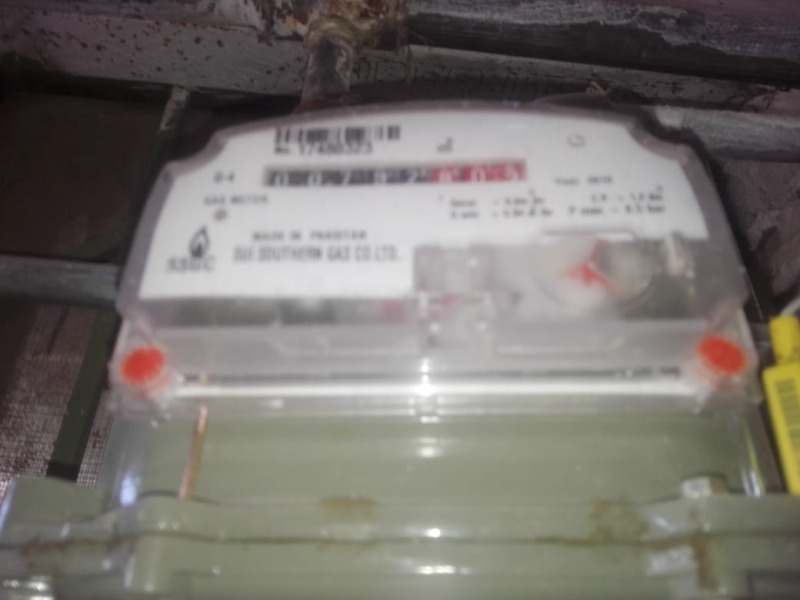ssgc: (259, 158, 530, 190)
